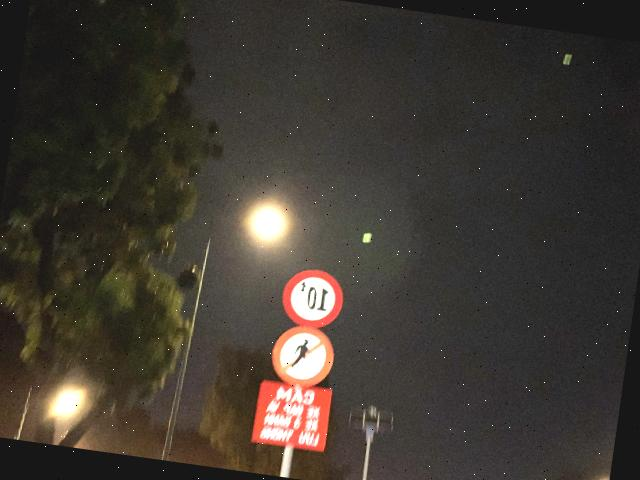cam-nguoi-di-bo: (268, 322, 338, 390)
han-che-trong-luong-xe: (279, 265, 347, 331)
